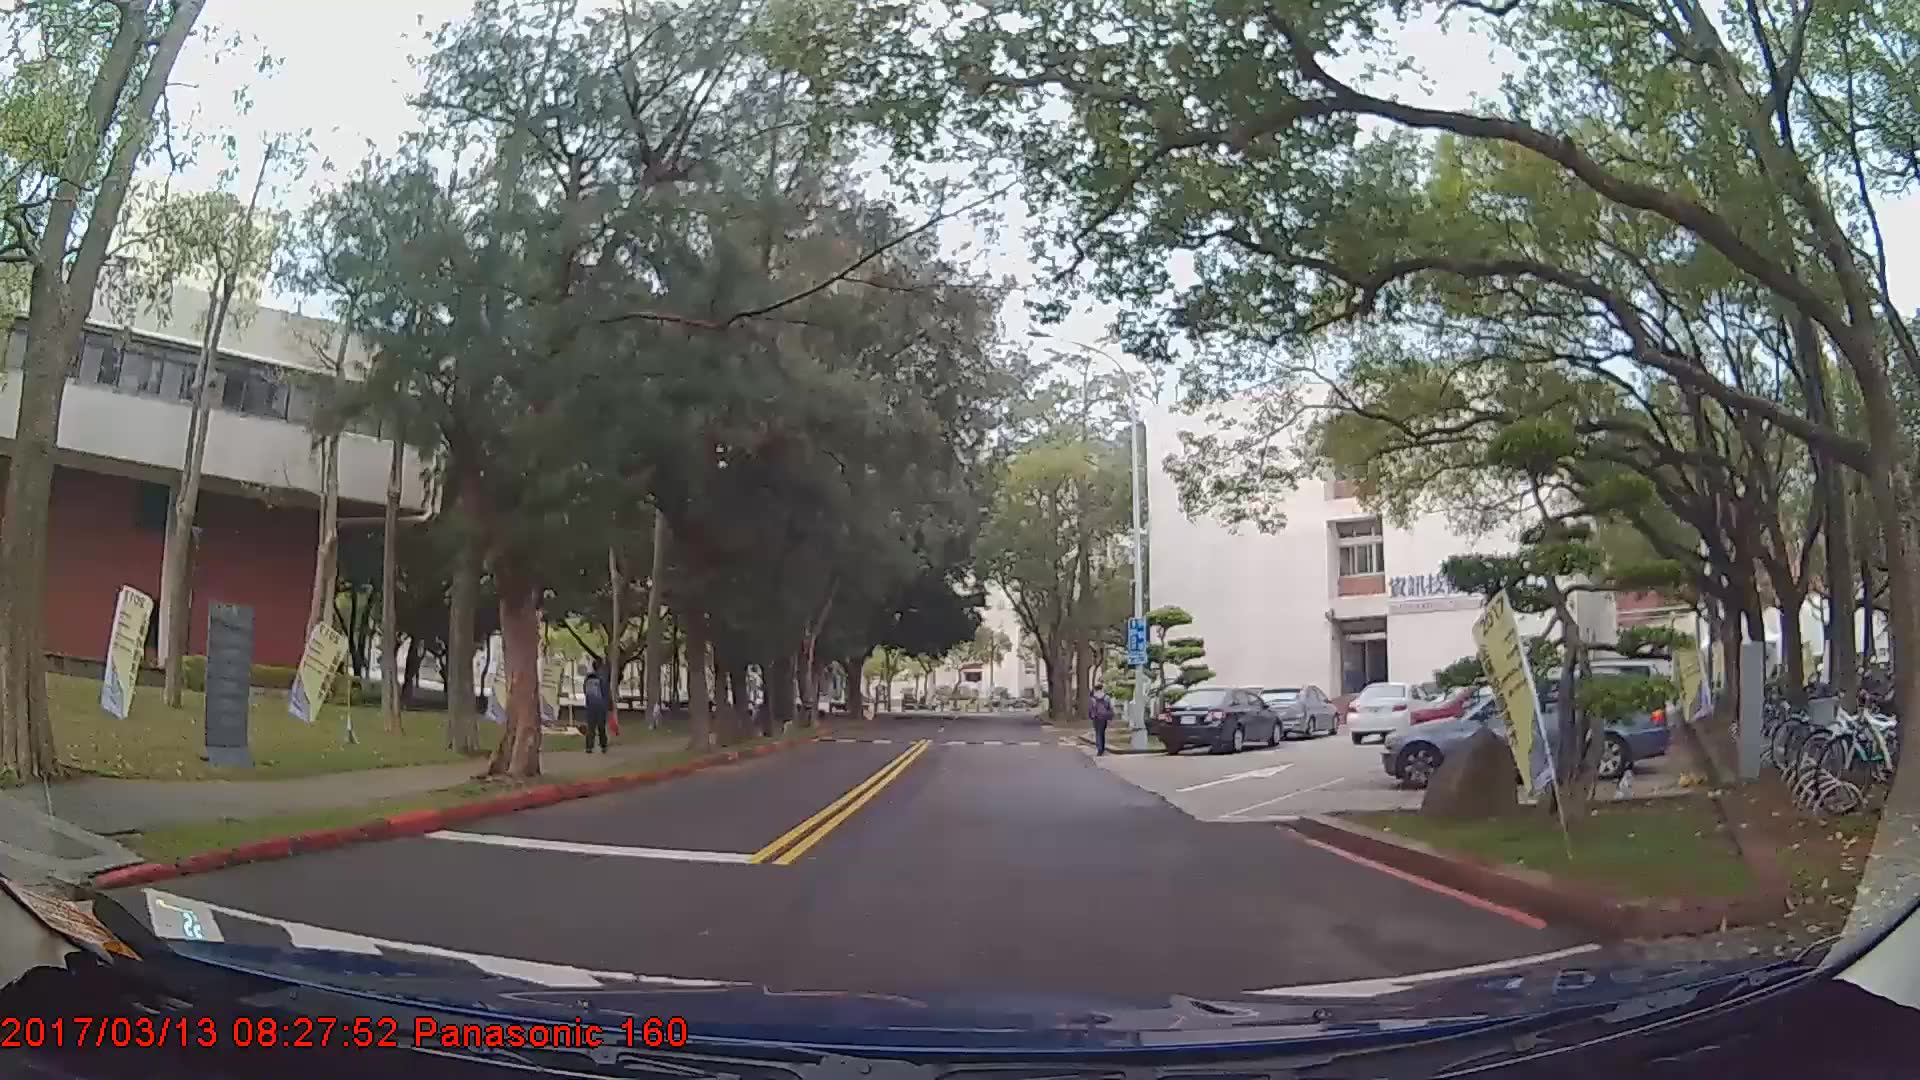pedestrian: (585, 660, 615, 754), (1089, 687, 1117, 760)
vehicle: (1379, 669, 1664, 794), (1153, 687, 1283, 756), (1345, 681, 1434, 745), (1257, 681, 1339, 737)
